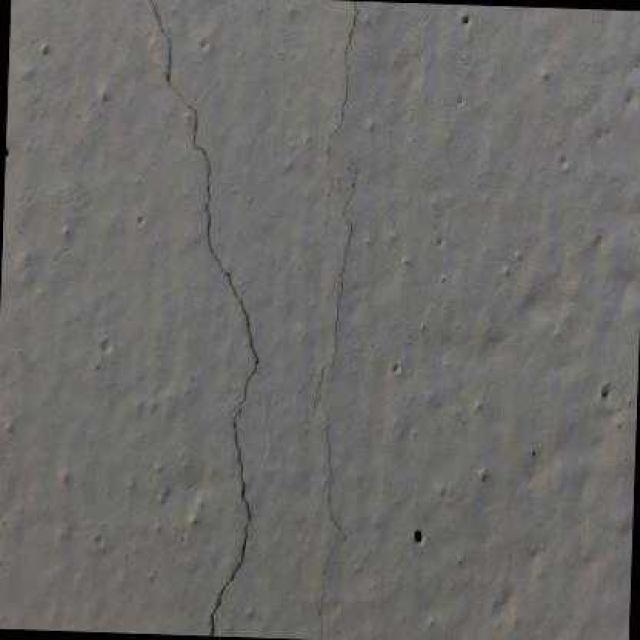D00: (148, 0, 260, 631), (311, 171, 357, 412), (321, 1, 359, 181), (325, 417, 346, 538), (315, 539, 337, 640)
